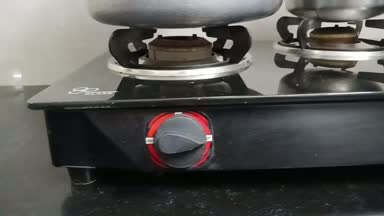flame_gas_off: (83, 2, 278, 173)
